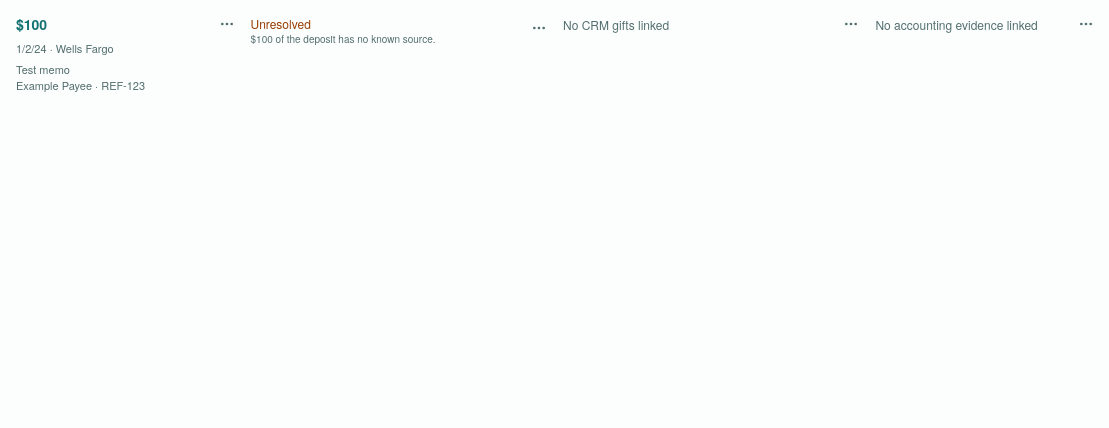
it: deposit workbench rows › labels (never hides) blocked gifts-column actions when no evidence anchor exists
Press the mouse on the button named "Card actions" at (226, 24), box [214,12,238,36]
Press the mouse on the button named "Composition actions" at (539, 28), box [527,16,551,40]
Press the mouse on the button named "Gift column actions" at (851, 24), box [839,12,863,36]
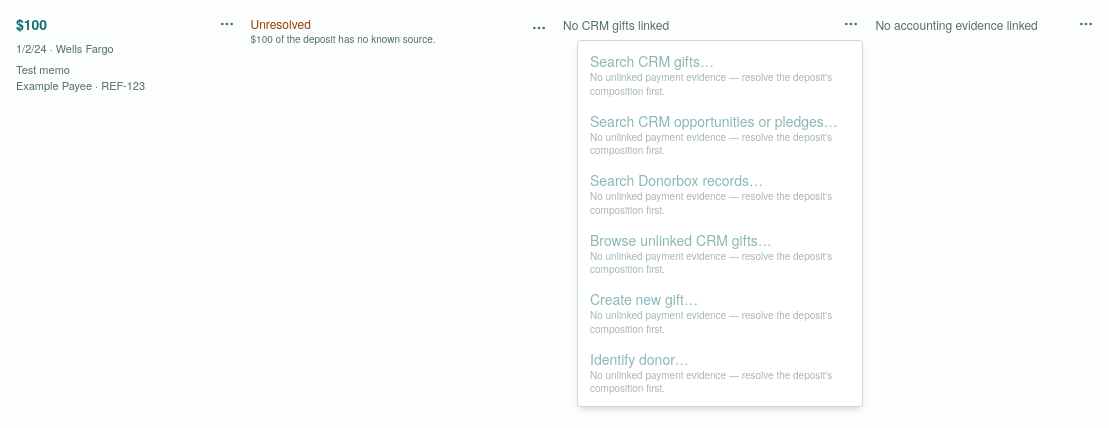
Expected: the menu is shown, [577,40,863,407]
Expected: the menu item that starts with "Search CRM gifts…" is shown, [582,45,858,104]
Expected: the menu item that starts with "Browse unlinked CRM gifts…" is shown, [582,224,858,283]
